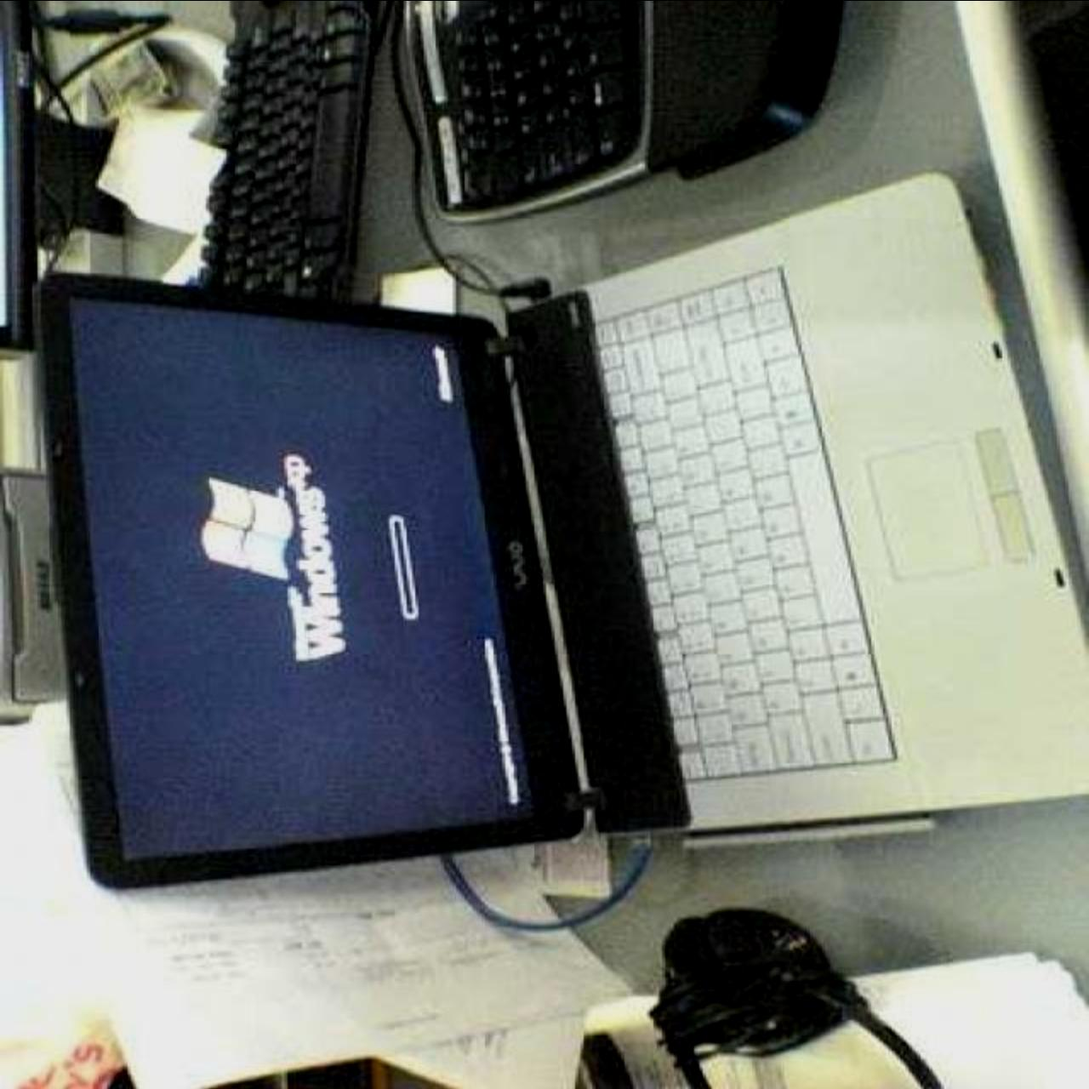laptop: (116, 174, 1089, 853)
